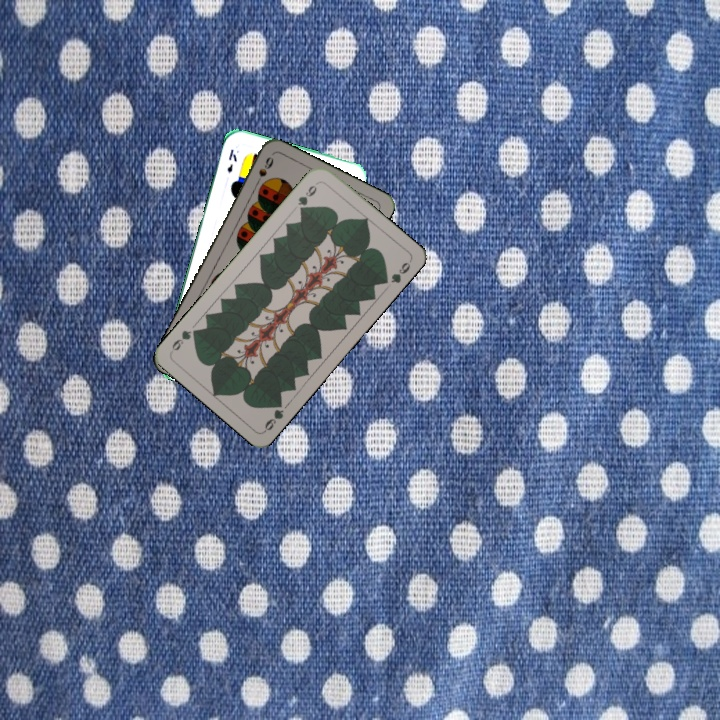EK: (223, 145, 239, 175)
G9: (293, 178, 321, 214), (260, 396, 286, 434)
S9: (251, 153, 276, 190)
